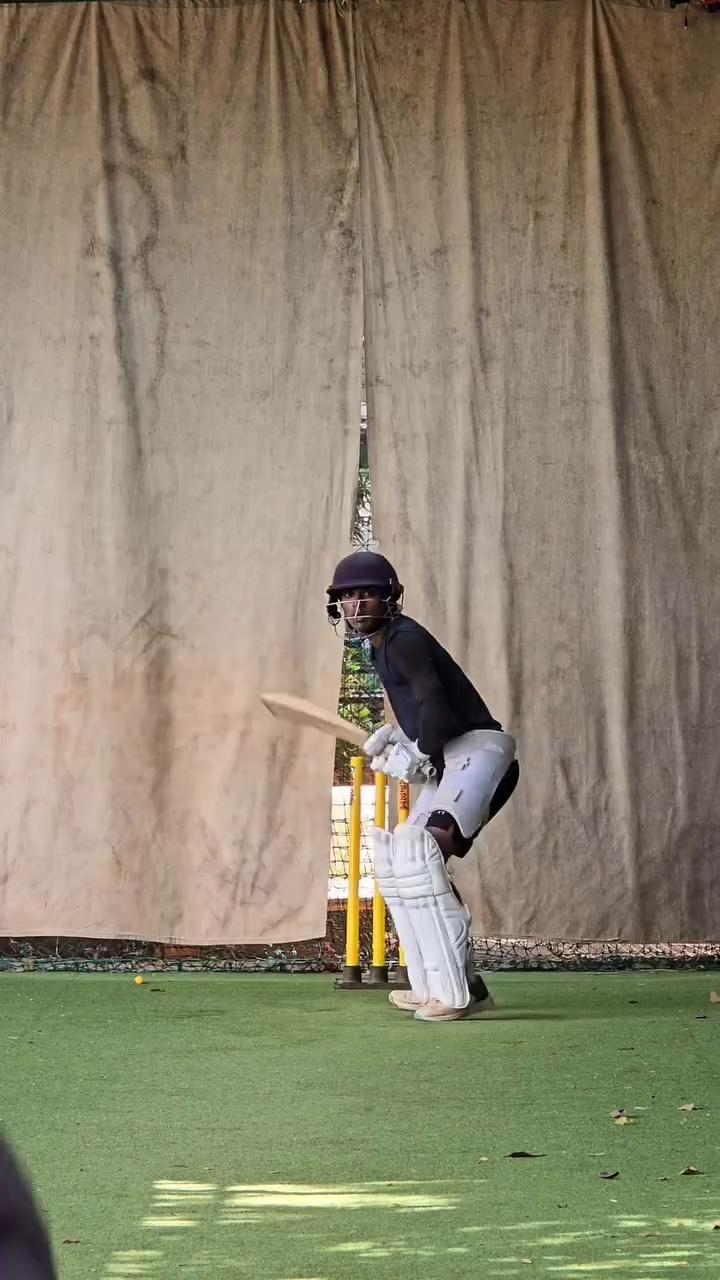bat: (248, 678, 369, 765)
